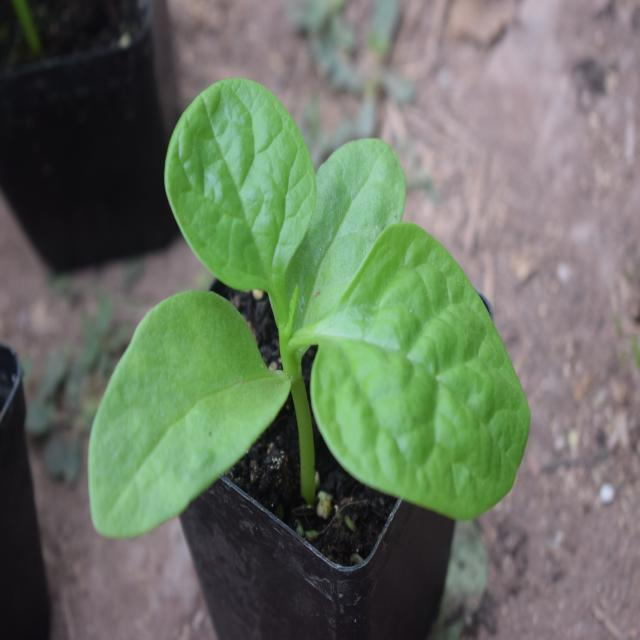Ceylon spinach: (105, 76, 528, 565)
